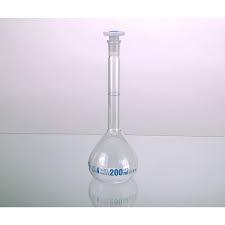Volumetric flask: (78, 19, 151, 182)
